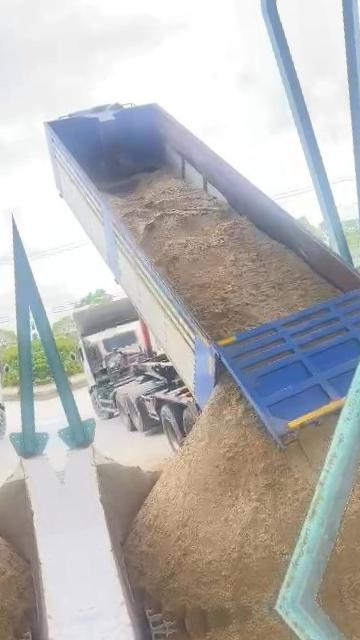sand: (124, 383, 336, 623), (110, 173, 339, 338), (321, 411, 360, 597), (96, 453, 159, 546)
